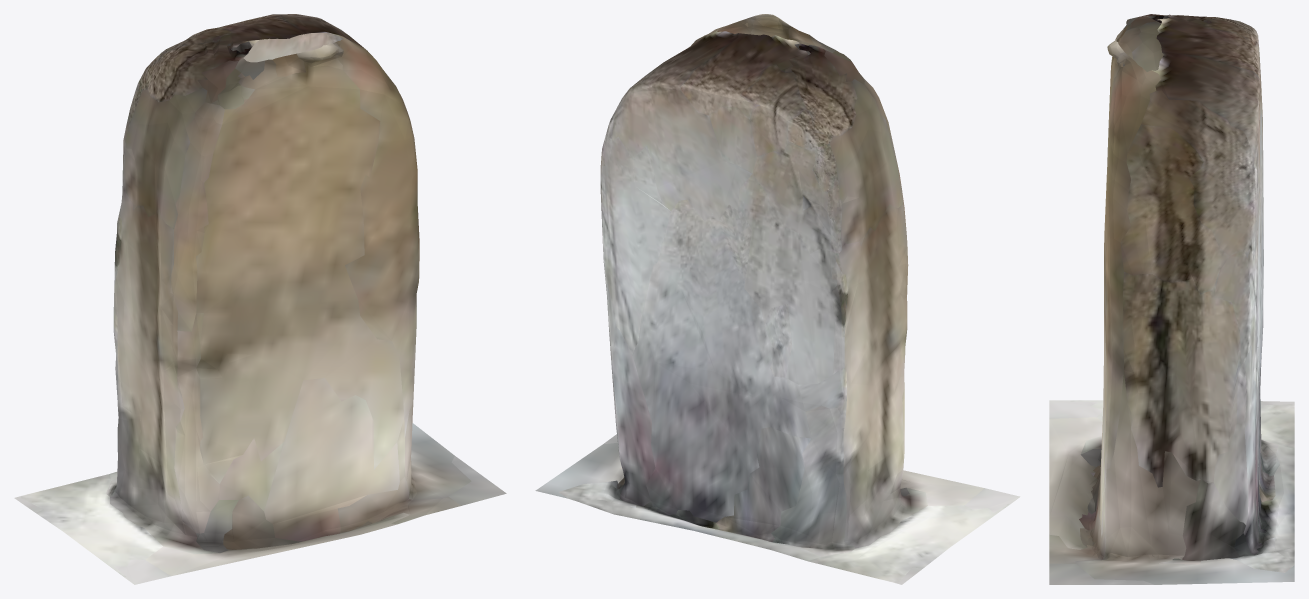
Rendered from stela-tikal.lod0.glb.
3 renders of one model, left to right at view 1: azimuth 30°, elevation 25°; view 2: azimuth 150°, elevation 25°; view 3: azimuth 270°, elevation 25°, orthographic. The views are drawn at different scales.
Parts seen in each view (by area): view 1: Object_2; view 2: Object_2; view 3: Object_2.
Part boxes in pixels (box(x1,y1,x2,y2)): Object_2: box(14, 14, 506, 584); Object_2: box(535, 14, 1020, 584); Object_2: box(1049, 14, 1294, 584).
Size of the model in its own units: 1.86 by 2.3 by 1.05.
Materials: 1 (1 with a texture image).
